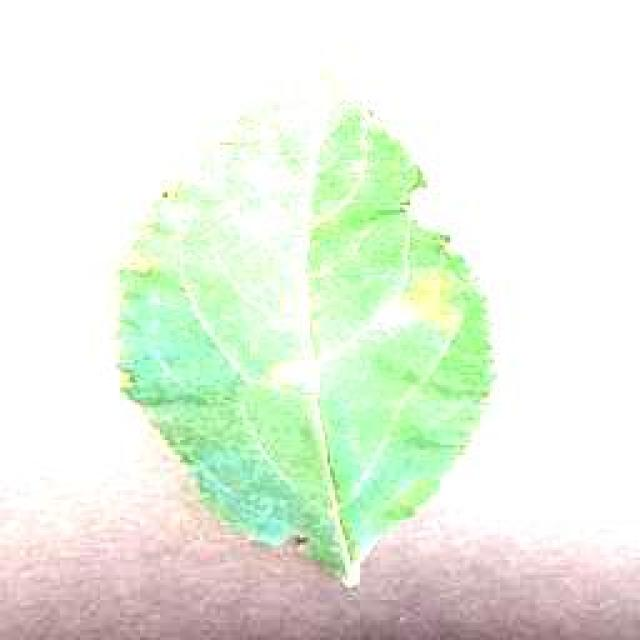apple healthy: (112, 85, 498, 590)
